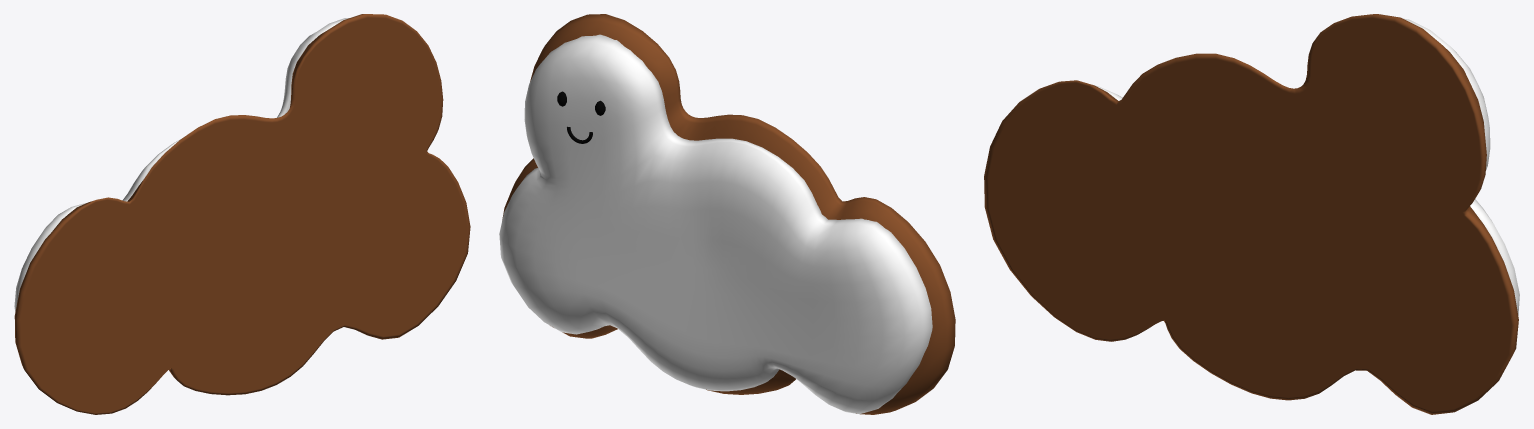
File: Cloud.FBX
3 views of the same model, side by side, from view 1: azimuth 30°, elevation 25°; view 2: azimuth 150°, elevation 25°; view 3: azimuth 330°, elevation 25° (orthographic). The views are drawn at different scales.
Parts seen in each view (by area): view 1: Box002, Box003; view 2: Box003, Box002; view 3: Box002, Box003.
Boxes of the visible parts, box(x1,y1,x2,y2) form: Box002: box(14, 14, 470, 414); Box003: box(14, 18, 349, 311); Box003: box(499, 34, 932, 414); Box002: box(502, 14, 955, 414); Box002: box(984, 14, 1518, 414); Box003: box(1095, 18, 1519, 314).
Size of the model in its own units: 90.53 by 66.94 by 10.76.
